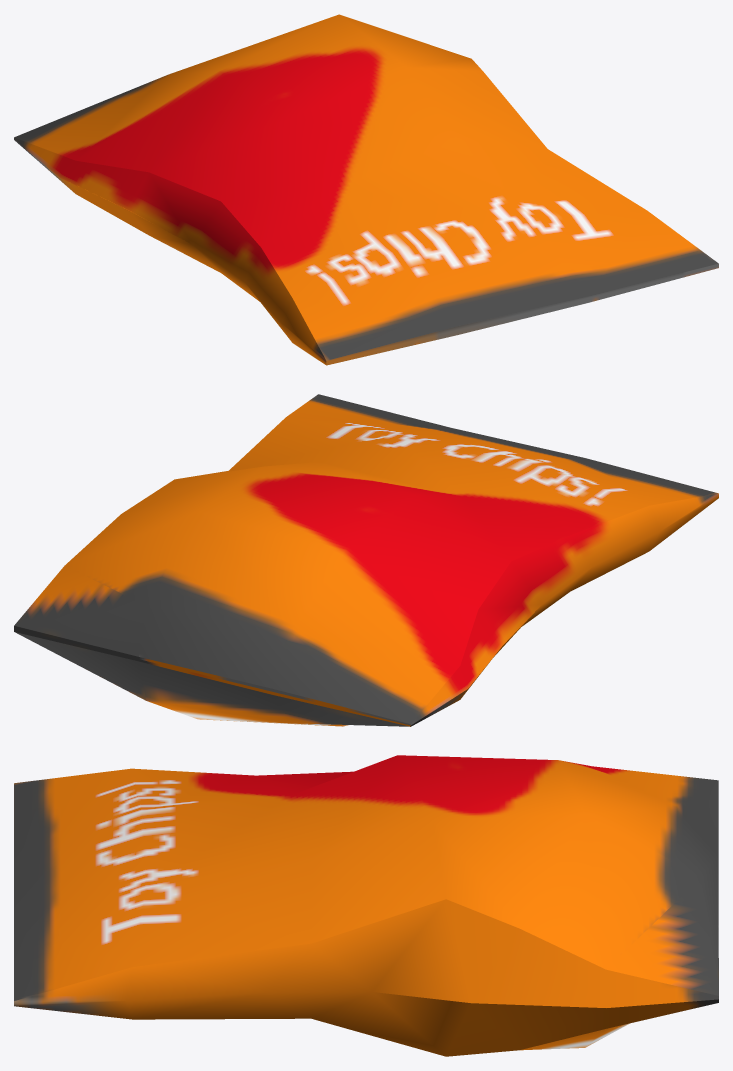
The model's file is chips.FBX.
3 renders of one model, top to bottom at view 1: azimuth 30°, elevation 25°; view 2: azimuth 150°, elevation 25°; view 3: azimuth 270°, elevation 25°, orthographic. The views are drawn at different scales.
Parts seen in each view (by area): view 1: Box002; view 2: Box002; view 3: Box002.
Boxes of the visible parts, x1,y1,x2,y2 form: Box002: (14,14,718,365); Box002: (14,394,718,726); Box002: (14,755,718,1056).
Bounding box in the file's own units: 61.45 × 29.17 × 79.86.
